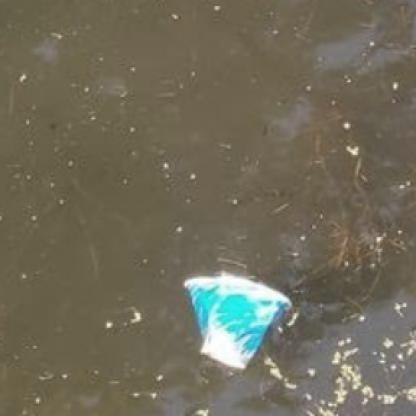Trash: (184, 269, 293, 370)
